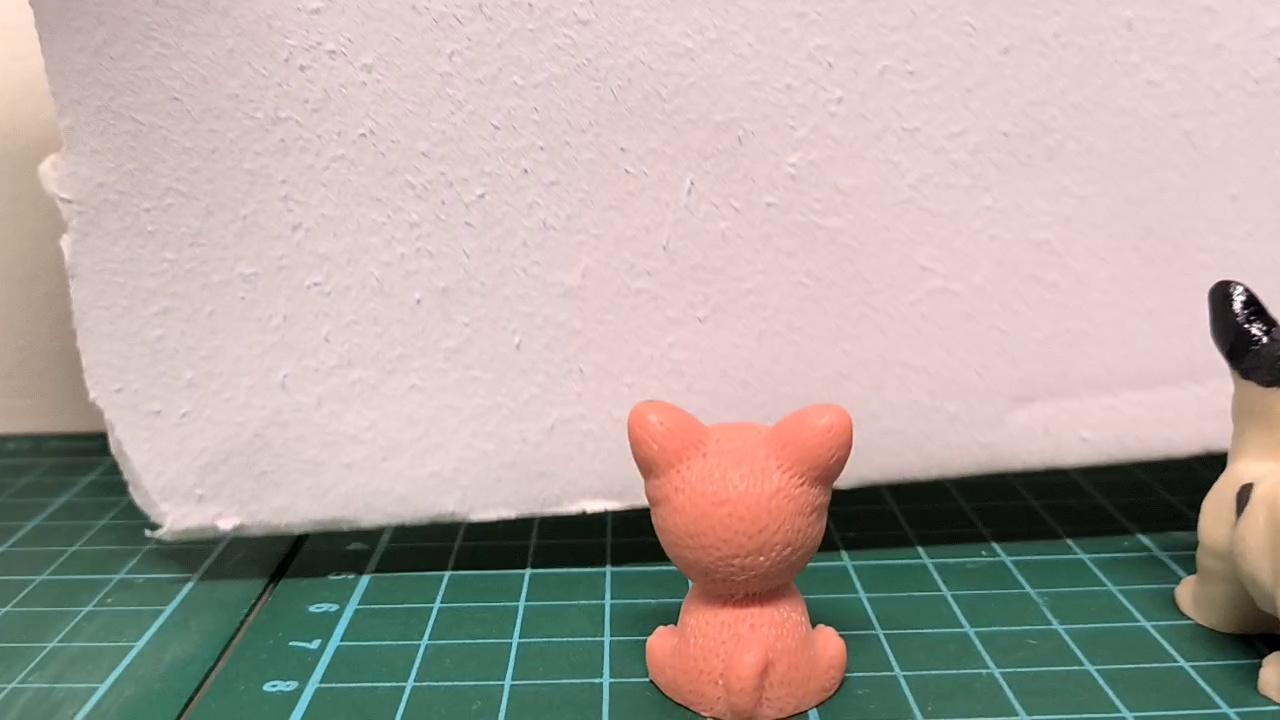pet: (627, 398, 858, 720)
